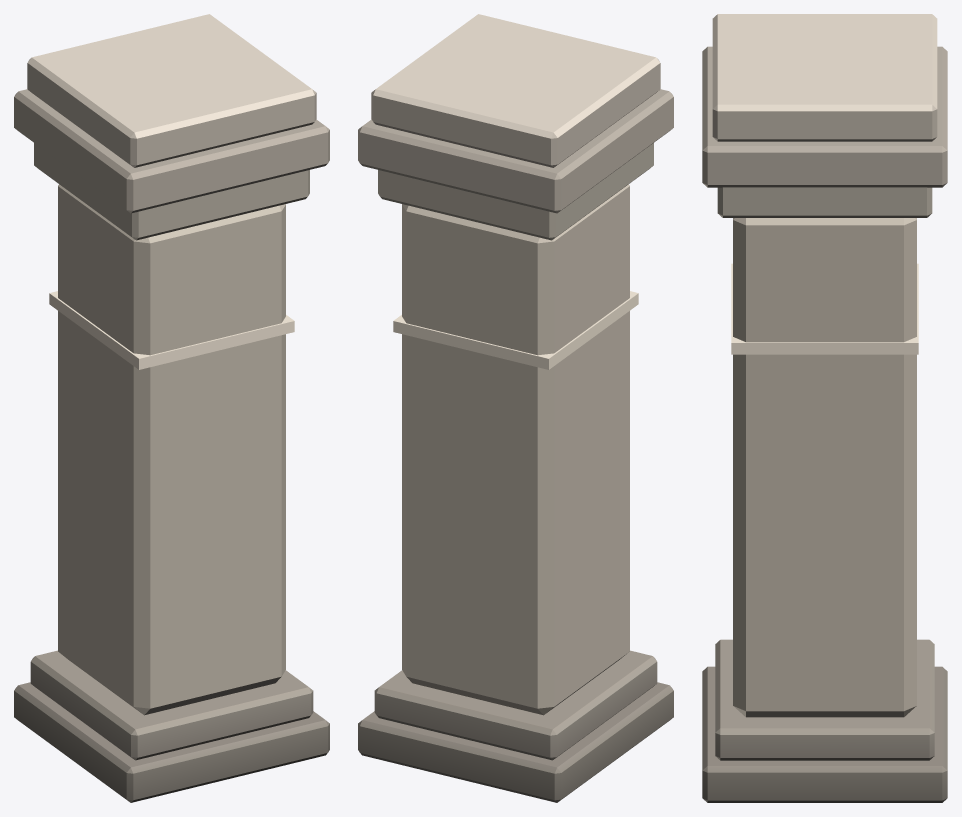
File: SM_VKI_Prop_Pillar_Dwarf_Full.fbx
3 views of the same model, side by side, from view 1: azimuth 30°, elevation 25°; view 2: azimuth 150°, elevation 25°; view 3: azimuth 270°, elevation 25° (orthographic). The views are drawn at different scales.
Parts seen in each view (by area): view 1: SM_VKI_Prop_Pillar_Dwarf_Full.001; view 2: SM_VKI_Prop_Pillar_Dwarf_Full.001; view 3: SM_VKI_Prop_Pillar_Dwarf_Full.001.
Part boxes in pixels (x1,y1,x2,y2): SM_VKI_Prop_Pillar_Dwarf_Full.001: (14,14,329,802); SM_VKI_Prop_Pillar_Dwarf_Full.001: (358,14,673,802); SM_VKI_Prop_Pillar_Dwarf_Full.001: (702,14,947,802).
Size of the model in its own units: 0.96 by 3 by 0.96.
